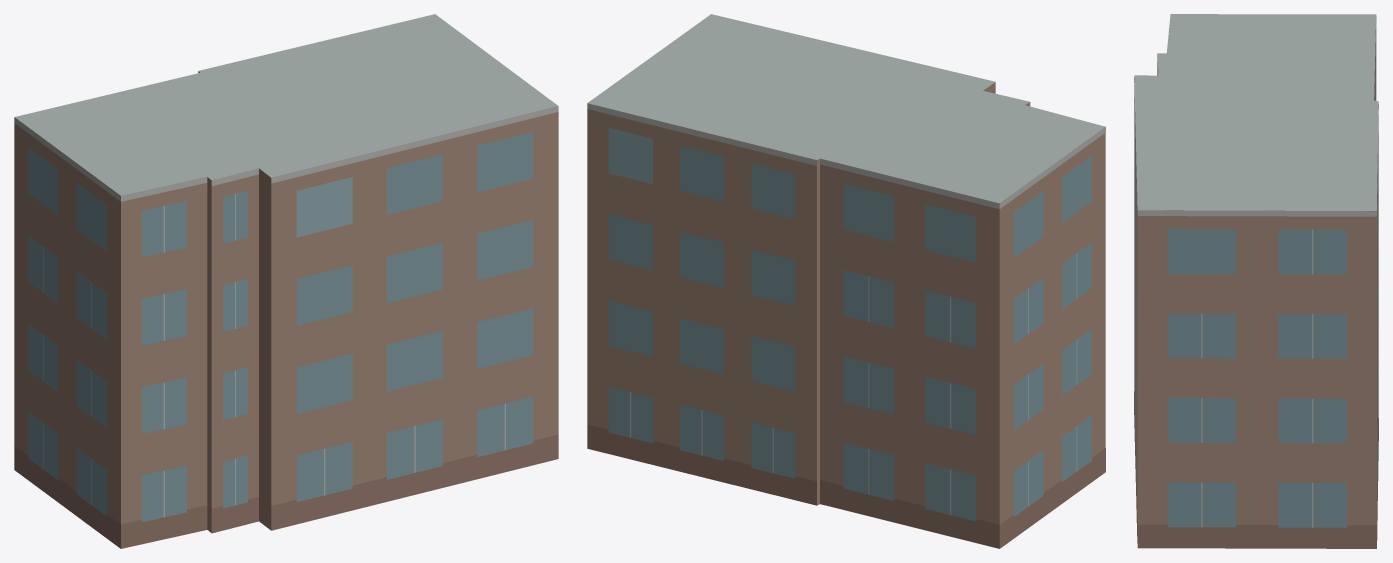
File: survey-upis-32823790.glb
3 renders of one model, left to right at view 1: azimuth 30°, elevation 25°; view 2: azimuth 150°, elevation 25°; view 3: azimuth 270°, elevation 25°, orthographic. The views are drawn at different scales.
Visible parts, largest first — view 1: survey-upis-32823790.tmp; view 2: survey-upis-32823790.tmp; view 3: survey-upis-32823790.tmp.
Part boxes in pixels (x1=…): survey-upis-32823790.tmp: x1=14, y1=14, x2=558, y2=548; survey-upis-32823790.tmp: x1=587, y1=14, x2=1105, y2=548; survey-upis-32823790.tmp: x1=1134, y1=14, x2=1378, y2=548.
Size of the model in its own units: 18.15 by 14.5 by 9.52.
